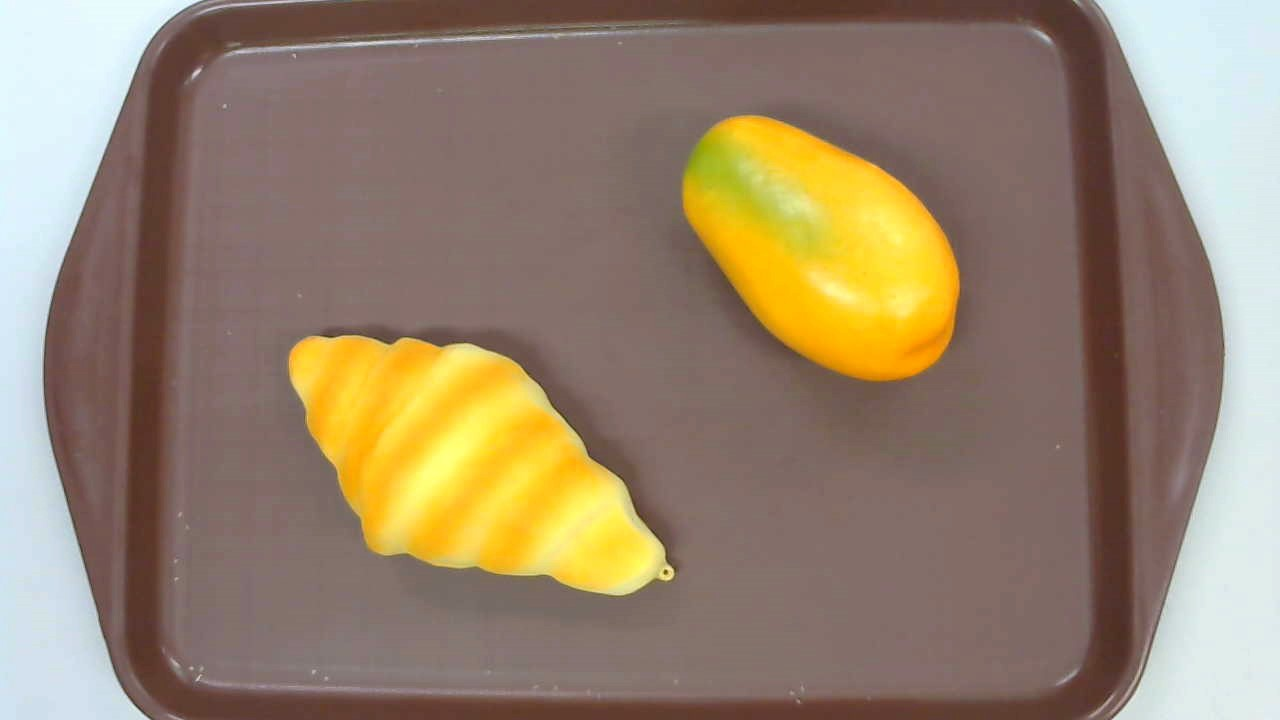croissant: (287, 336, 677, 597)
papya: (682, 113, 960, 382)
